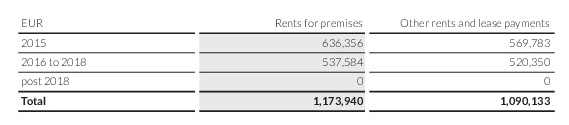table: (0, 0, 569, 125)
